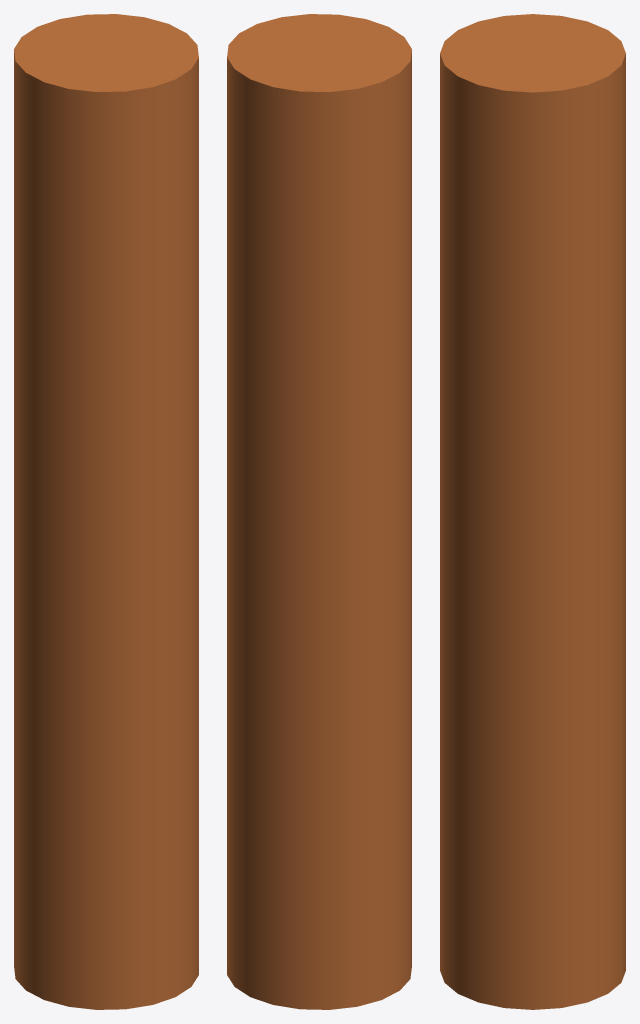
The model's file is titan_srb_l.injection_tank.glb.
3 views of the same model, side by side, from view 1: azimuth 30°, elevation 25°; view 2: azimuth 150°, elevation 25°; view 3: azimuth 270°, elevation 25° (orthographic).
Parts seen in each view (by area): view 1: titan_srb_l.injection_tank.mesh_Spray-on_insulation; view 2: titan_srb_l.injection_tank.mesh_Spray-on_insulation; view 3: titan_srb_l.injection_tank.mesh_Spray-on_insulation.
Part boxes in pixels (<box>): titan_srb_l.injection_tank.mesh_Spray-on_insulation: <box>14,14,198,1009</box>; titan_srb_l.injection_tank.mesh_Spray-on_insulation: <box>227,14,411,1009</box>; titan_srb_l.injection_tank.mesh_Spray-on_insulation: <box>440,14,625,1009</box>.
Bounding box in the file's own units: 0.36 × 1.96 × 0.36.
